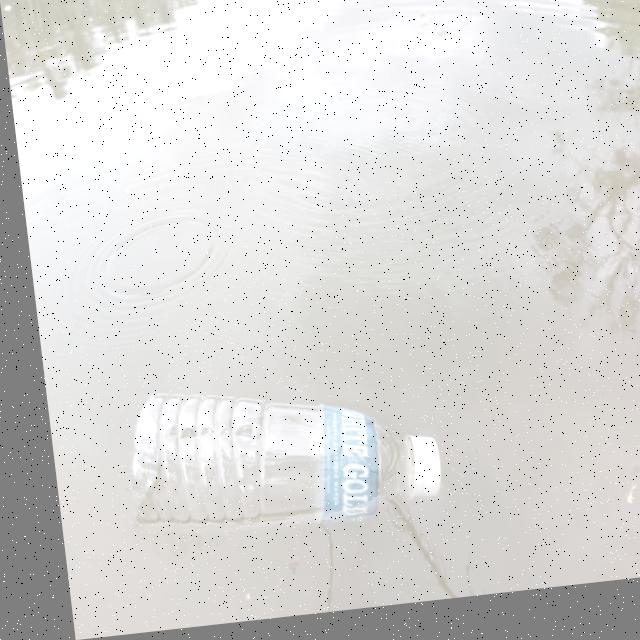waterbottle: (103, 369, 442, 555)
